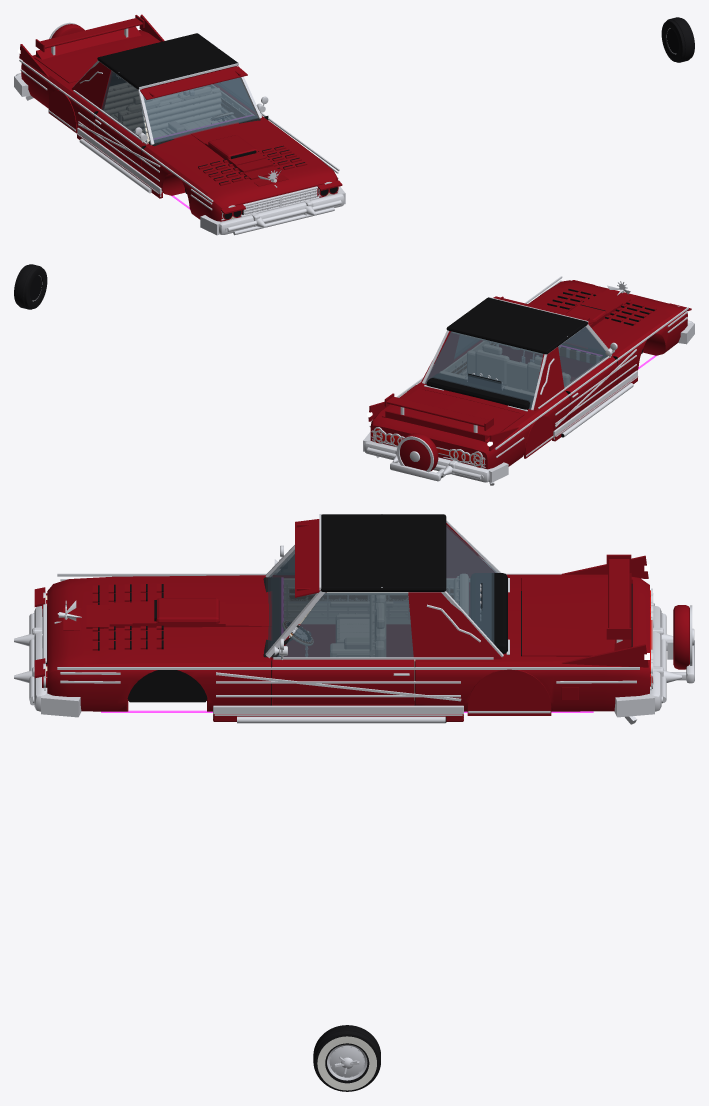
Rendered from Lowrider.glb.
3 renders of one model, top to bottom at view 1: azimuth 30°, elevation 25°; view 2: azimuth 150°, elevation 25°; view 3: azimuth 270°, elevation 25°, orthographic. The views are drawn at different scales.
Visible parts, largest first — view 1: Lowrider_PanelHood, Lowrider_Glass, Lowrider_OptTopVinylTop, Lowrider_PanelSideR, Lowrider_OptSeatsPillowSeat, Lowrider_OptTopLandauTop, Lowrider_Lid, Lowrider_RoofGlass__WinDoorR, Lowrider_OptFrontBumperBulletChrome, Lowrider_OptHoodCowlBody, Lowrider_PanelDoorR, Lowrider_OptVisorBodyBody (+19 smaller); view 2: Lowrider_RoofGlass, Lowrider_Body, Lowrider_PanelHood, Lowrider_OptTopVinylTop, Lowrider_PanelSideR, Lowrider_Lid, Lowrider_OptTopLandauTop, Lowrider_RoofGlass__WinDoorR, Lowrider_RoofBody, Lowrider_OptTopDownTop, Lowrider_OptSeatsBucketsSeat, Lowrider_PanelDoorR (+20 smaller); view 3: Lowrider_PanelHood, Lowrider_PanelSideL, Lowrider_RoofGlass__WinDoorL, Lowrider_OptTopVinylTop, Lowrider_Lid, Lowrider_PanelDoorL, Lowrider_RoofBody, Lowrider_OptTopLandauTop, Lowrider_Body, Lowrider_RoofGlass, Lowrider_OptHoodCowlBody, Lowrider_OptSkirtsFenderBody (+20 smaller).
Part boxes in pixels (x1,y1,x2,y2): Lowrider_PanelHood: (146, 117, 336, 208); Lowrider_Glass: (143, 77, 257, 143); Lowrider_OptTopVinylTop: (98, 33, 237, 89); Lowrider_PanelSideR: (21, 61, 222, 221); Lowrider_OptSeatsPillowSeat: (104, 87, 220, 133); Lowrider_OptTopLandauTop: (97, 33, 216, 73); Lowrider_Lid: (33, 32, 155, 83); Lowrider_RoofGlass__WinDoorR: (101, 70, 147, 142); Lowrider_OptFrontBumperBulletChrome: (200, 186, 345, 235); Lowrider_OptHoodCowlBody: (190, 126, 288, 186); Lowrider_PanelDoorR: (94, 111, 149, 172); Lowrider_OptVisorBodyBody: (140, 66, 247, 99); Lowrider_RoofGlass: (424, 331, 543, 409); Lowrider_Body: (370, 333, 665, 469); Lowrider_PanelHood: (529, 280, 684, 356); Lowrider_OptTopVinylTop: (450, 297, 587, 351); Lowrider_PanelSideR: (485, 311, 687, 469); Lowrider_Lid: (382, 388, 523, 442); Lowrider_OptTopLandauTop: (446, 312, 566, 354); Lowrider_RoofGlass__WinDoorR: (558, 326, 607, 387); Lowrider_RoofBody: (421, 331, 564, 410); Lowrider_OptTopDownTop: (426, 374, 533, 409); Lowrider_OptSeatsBucketsSeat: (440, 344, 541, 395); Lowrider_PanelDoorR: (564, 356, 617, 417); Lowrider_PanelHood: (47, 575, 271, 673); Lowrider_PanelSideL: (47, 661, 649, 711); Lowrider_RoofGlass__WinDoorL: (277, 593, 413, 657); Lowrider_OptTopVinylTop: (321, 514, 443, 591); Lowrider_Lid: (522, 577, 614, 656); Lowrider_PanelDoorL: (272, 658, 414, 704); Lowrider_RoofBody: (408, 523, 502, 659); Lowrider_OptTopLandauTop: (384, 514, 446, 591); Lowrider_Body: (126, 574, 649, 711); Lowrider_RoofGlass: (325, 525, 497, 644); Lowrider_OptHoodCowlBody: (63, 601, 271, 630); Lowrider_OptSkirtsFenderBody: (467, 585, 551, 715).
Bounding box in the file's own units: 34.67 × 6.52 × 23.5.
